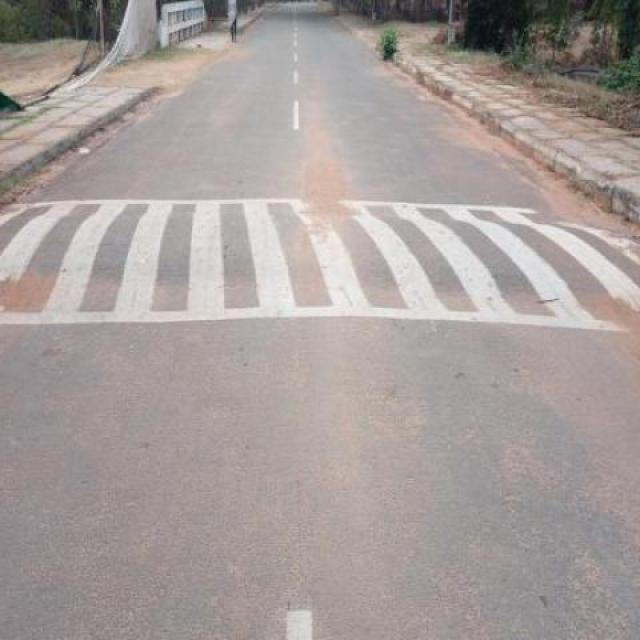Speed Bump: (0, 195, 639, 338)
